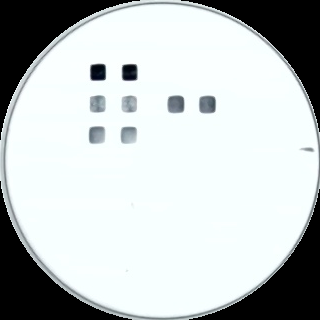检查点: (118, 61, 140, 83), (88, 62, 109, 83), (166, 94, 186, 115), (87, 125, 108, 145), (118, 95, 139, 114), (198, 94, 216, 116), (87, 95, 108, 113), (120, 126, 139, 145)
